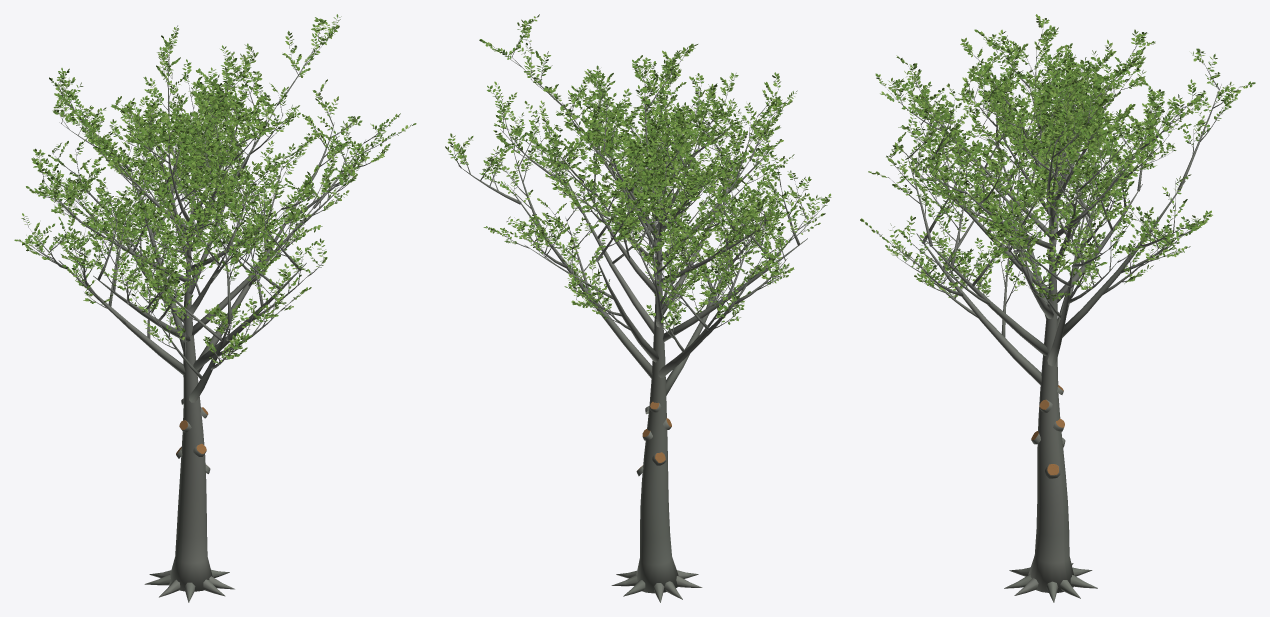
The model's file is Beech_Mature_01_MediumPruned_Recent_LOD0.fbx.
The picture shows the model from 3 angles, left to right: view 1: azimuth 30°, elevation 25°; view 2: azimuth 150°, elevation 25°; view 3: azimuth 270°, elevation 25°; orthographic projection. The views are drawn at different scales.
Parts seen in each view (by area): view 1: Beech_Mature_01_MediumPruned_Recent_LOD0; view 2: Beech_Mature_01_MediumPruned_Recent_LOD0, Beech_Mature_01_MediumPruned_Recent_LOD0_Scars; view 3: Beech_Mature_01_MediumPruned_Recent_LOD0, Beech_Mature_01_MediumPruned_Recent_LOD0_Scars.
Boxes of the visible parts, left/top/right/bottom form: Beech_Mature_01_MediumPruned_Recent_LOD0: left=14, top=14, right=416, bottom=602; Beech_Mature_01_MediumPruned_Recent_LOD0: left=445, top=14, right=831, bottom=602; Beech_Mature_01_MediumPruned_Recent_LOD0_Scars: left=636, top=401, right=671, bottom=476; Beech_Mature_01_MediumPruned_Recent_LOD0: left=860, top=14, right=1255, bottom=602; Beech_Mature_01_MediumPruned_Recent_LOD0_Scars: left=1031, top=385, right=1065, bottom=478.
Size of the model in its own units: 1733 by 2506 by 1566.
Materials: 6 (2 with a texture image).
